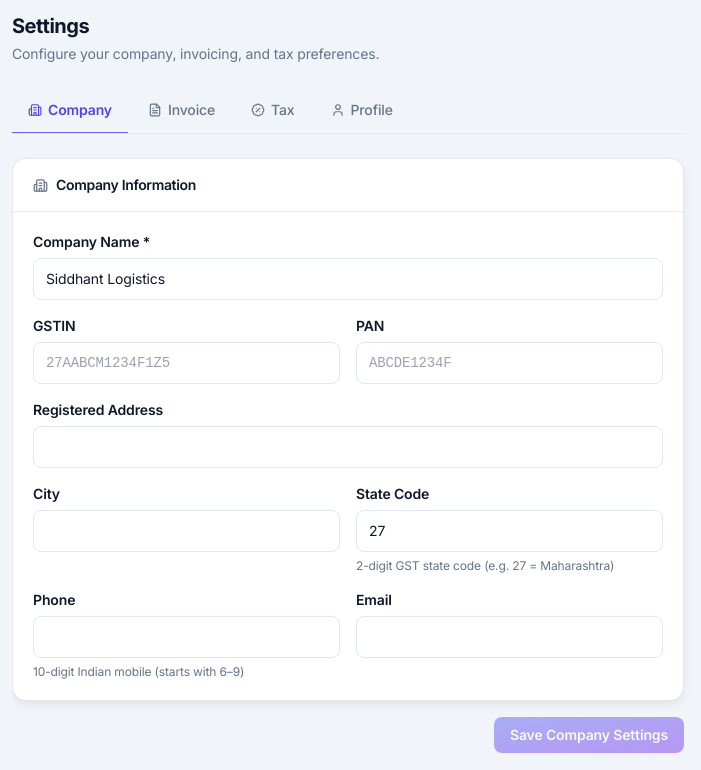
Scenario: SettingsPage › switches to Invoice tab
Click the button "Invoice": (182, 111) x1=132 y1=88 x2=231 y2=134
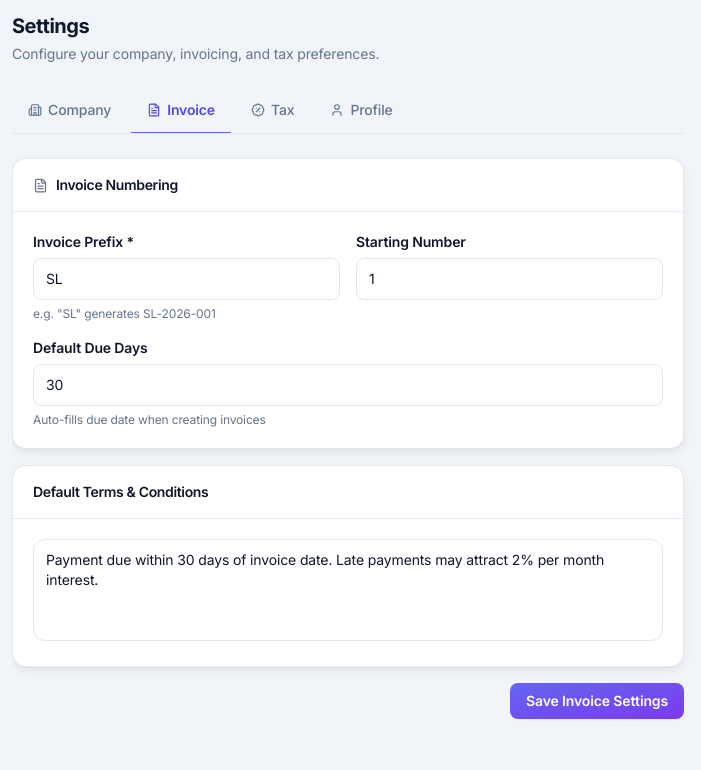
expect the field labelled "Invoice Prefix *" is shown: met, box x1=33 y1=258 x2=340 y2=300
